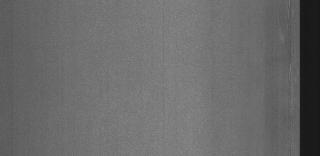silk spot: (280, 1, 298, 101)
